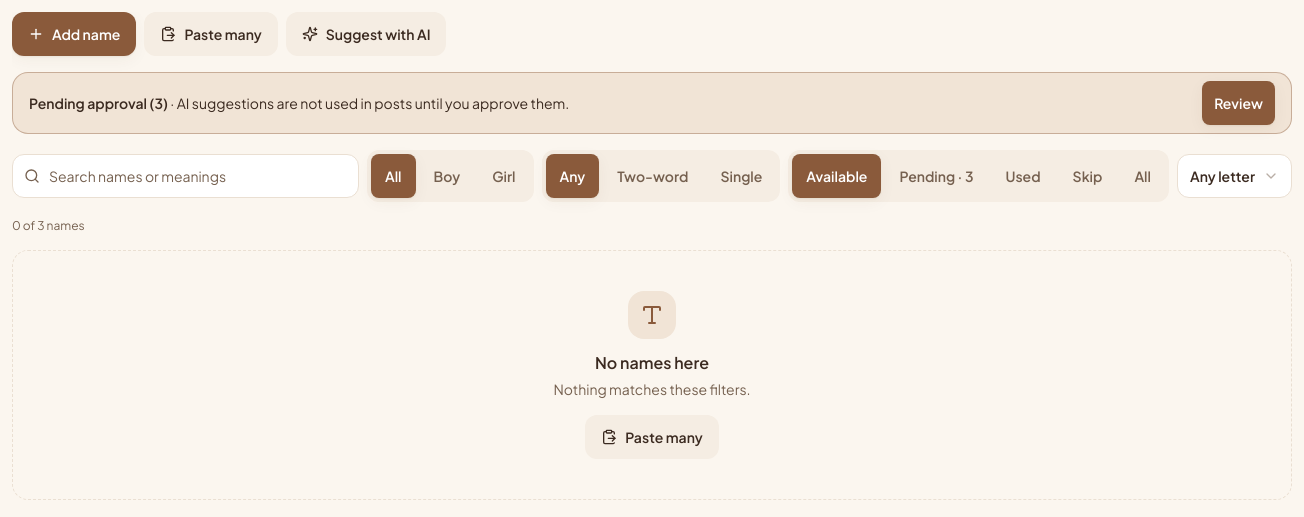
Test: Names: suggest + approve › Approve all while one approve is in flight sends only the others, and a late failure restores just that one
The width and height of the screenshot is (1304, 517).
Click the button "Review": [1239, 103] box [1202,81,1275,125]
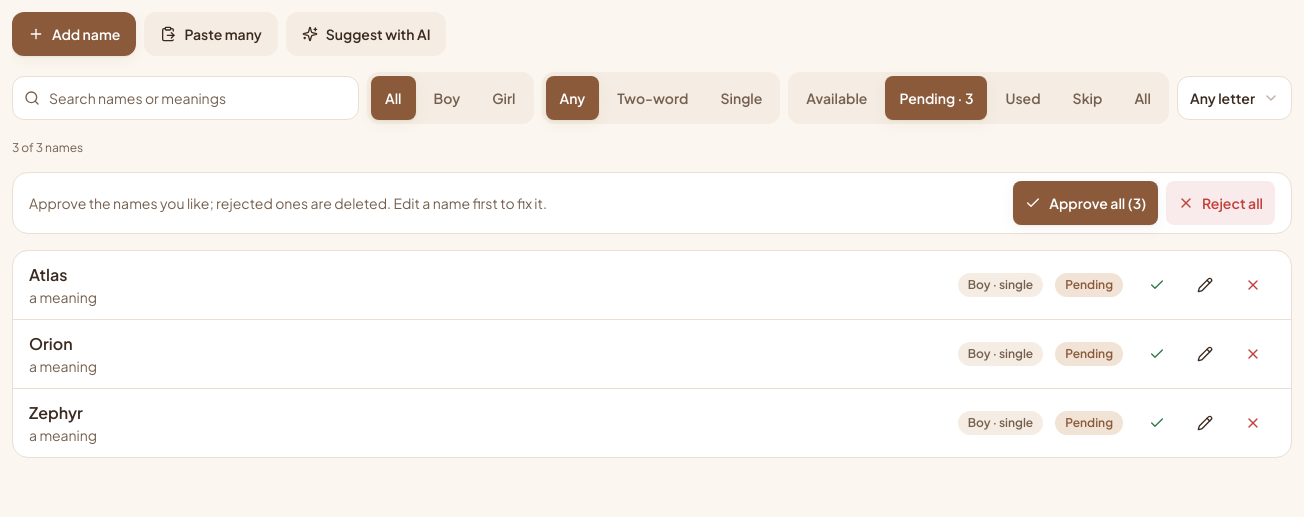
Click the button named "Approve Zephyr": [1157, 423] box [1135,401,1179,445]
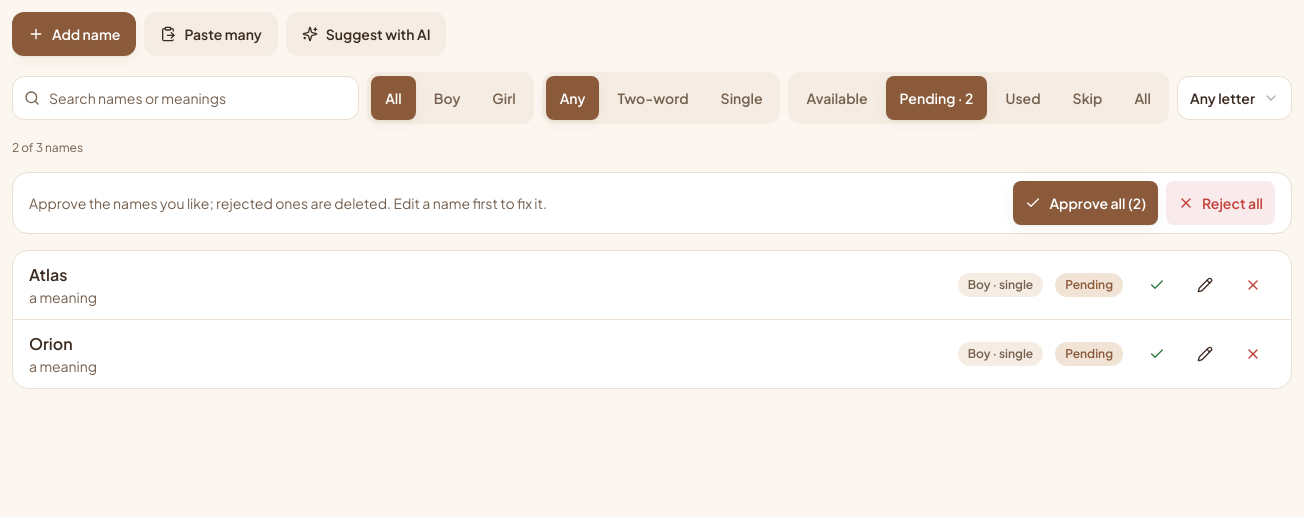
Click the button "Approve all (2)": [1086, 203] box [1013,181,1158,225]
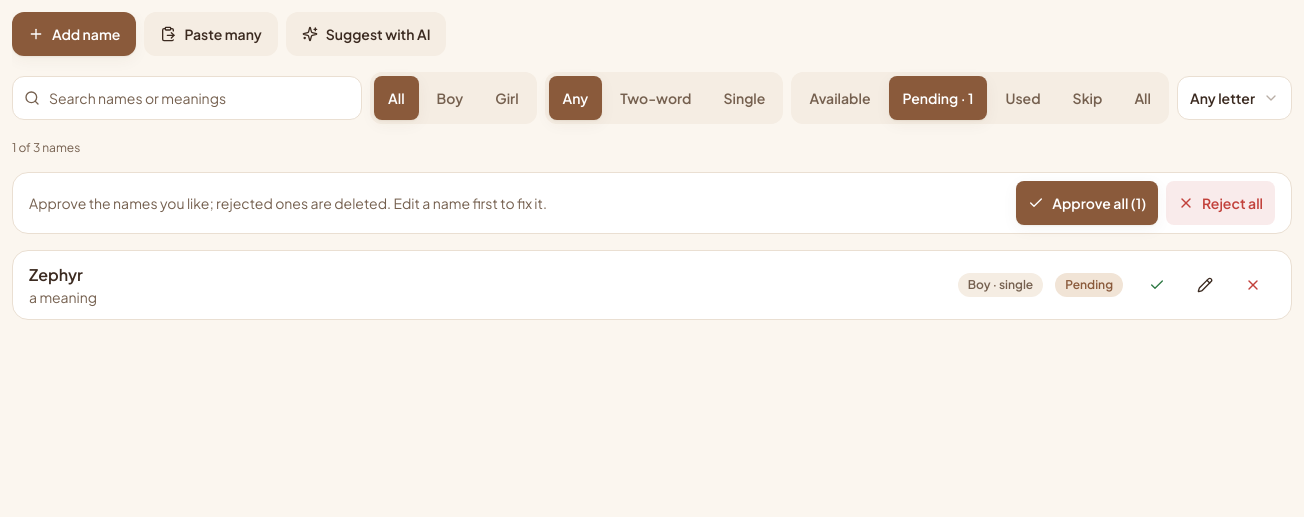
Expected: the text "Zephyr" is shown, [29,264,83,285]
Expected: the text "Orion" is gone
Expected: the text "Atlas" is gone
